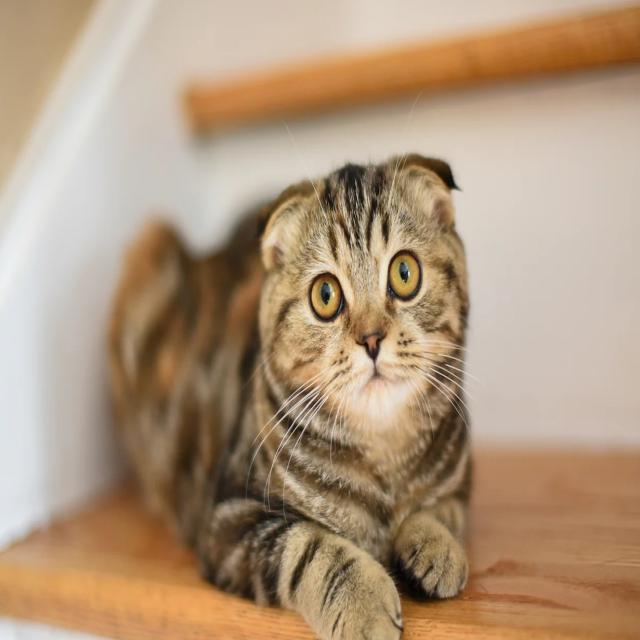Scottish Fold: (111, 142, 480, 640)
